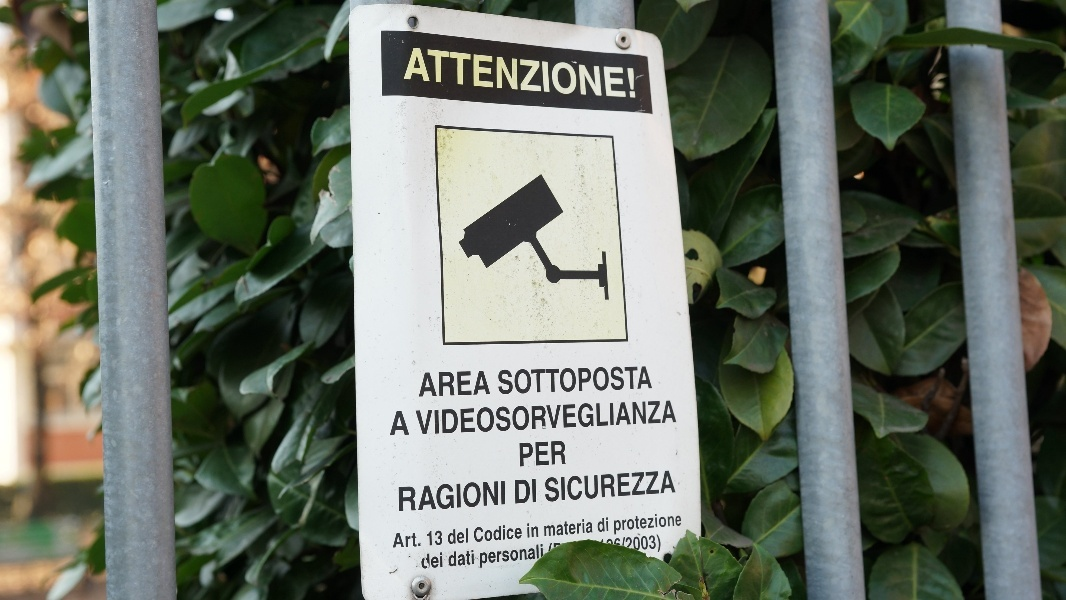text: (417, 47, 432, 100), (433, 47, 448, 100), (449, 47, 464, 100), (465, 47, 480, 100), (481, 47, 496, 100), (497, 47, 512, 100), (513, 47, 528, 100), (529, 47, 544, 100), (545, 47, 560, 100), (561, 47, 576, 100), (577, 47, 592, 100), (593, 47, 608, 100), (609, 47, 624, 100), (625, 47, 637, 100), (417, 400, 432, 436), (433, 400, 448, 436), (449, 400, 464, 436), (465, 400, 480, 436), (481, 400, 496, 436), (497, 400, 512, 436), (513, 400, 528, 436), (529, 400, 544, 436), (545, 400, 560, 436), (561, 400, 576, 436), (577, 400, 592, 436), (593, 400, 608, 436), (609, 400, 624, 436), (625, 400, 640, 436), (641, 400, 656, 436), (657, 400, 672, 436), (401, 479, 416, 513), (417, 479, 432, 513), (433, 479, 448, 513), (449, 479, 464, 513), (465, 479, 480, 513), (481, 479, 496, 513), (545, 470, 560, 504), (561, 470, 576, 504), (577, 470, 592, 504), (593, 470, 608, 504), (609, 470, 624, 504), (625, 470, 640, 504), (641, 470, 656, 504), (657, 470, 672, 504), (513, 365, 528, 396), (529, 365, 544, 396), (545, 365, 560, 396), (561, 365, 576, 396), (577, 365, 592, 396), (593, 365, 608, 396), (609, 365, 624, 396), (625, 365, 640, 396), (433, 370, 448, 399), (449, 370, 464, 399), (465, 370, 480, 399), (498, 365, 512, 396), (529, 440, 544, 468), (545, 440, 560, 468), (641, 365, 654, 396), (514, 478, 528, 505), (481, 544, 496, 569), (497, 544, 512, 569), (513, 544, 528, 569), (529, 544, 544, 569), (625, 513, 640, 536), (641, 513, 656, 536), (657, 513, 672, 536), (481, 370, 492, 399), (497, 479, 506, 513), (481, 524, 496, 544), (497, 524, 512, 544), (545, 518, 560, 537), (561, 518, 576, 537), (577, 518, 592, 537), (609, 534, 624, 553), (625, 534, 640, 553), (641, 534, 656, 553), (401, 410, 411, 437), (449, 528, 464, 546), (449, 550, 464, 568), (519, 440, 528, 468), (529, 478, 538, 505), (401, 533, 416, 549), (424, 370, 432, 399), (614, 513, 624, 536), (673, 513, 683, 536), (513, 524, 524, 544), (421, 551, 432, 570), (433, 551, 444, 570), (433, 530, 444, 547), (673, 400, 678, 436), (465, 550, 475, 568), (529, 523, 540, 539), (597, 517, 608, 533), (673, 470, 678, 504), (561, 440, 567, 468), (413, 47, 416, 100), (473, 524, 480, 544), (601, 534, 608, 553), (417, 533, 424, 549), (396, 410, 400, 437), (397, 479, 400, 513), (426, 530, 432, 547), (549, 543, 560, 552), (657, 534, 662, 553), (465, 528, 469, 546), (396, 533, 400, 549), (415, 400, 416, 436), (593, 518, 594, 537), (527, 523, 528, 539), (561, 543, 562, 552)
